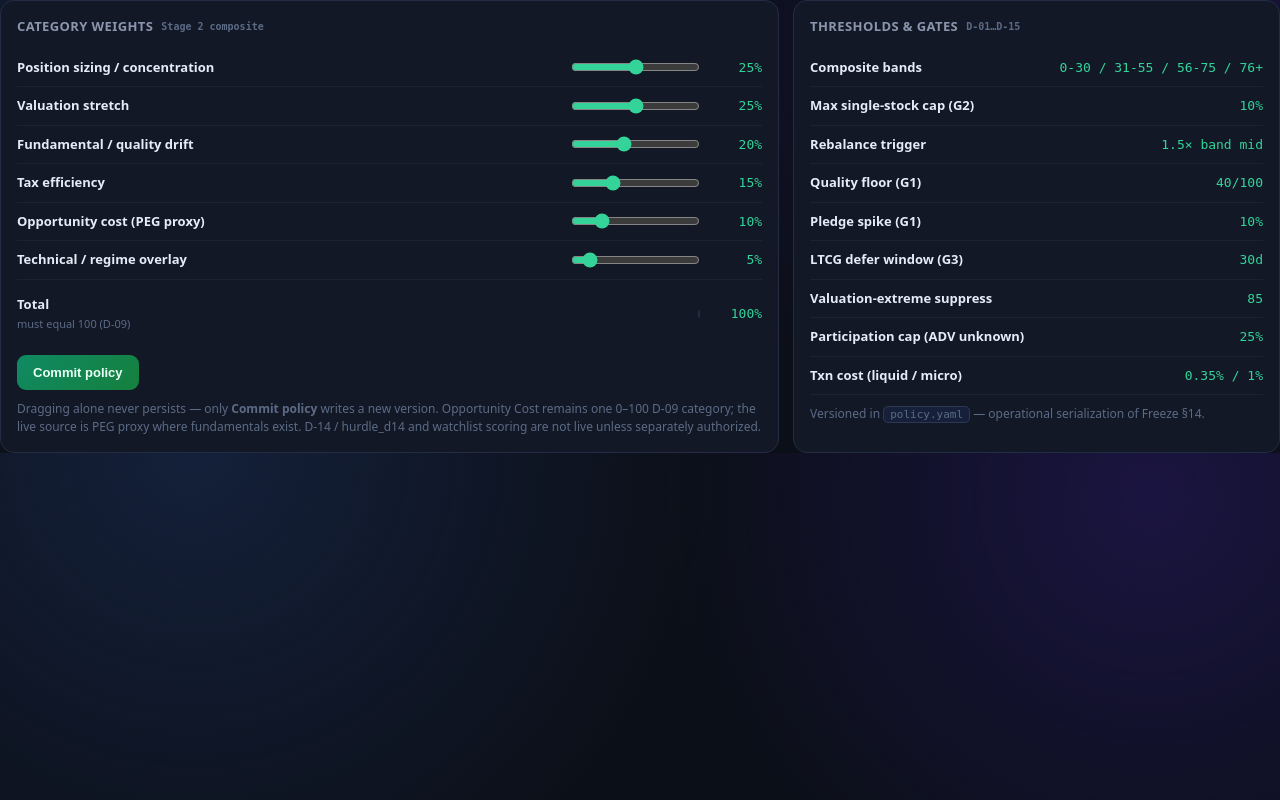
WeightsView — D-09 weight validation › ACCEPTS commit when the total is exactly 100
The image size is (1280, 800).
Click the button "Commit policy" at (78, 372), box [17,354,139,390]
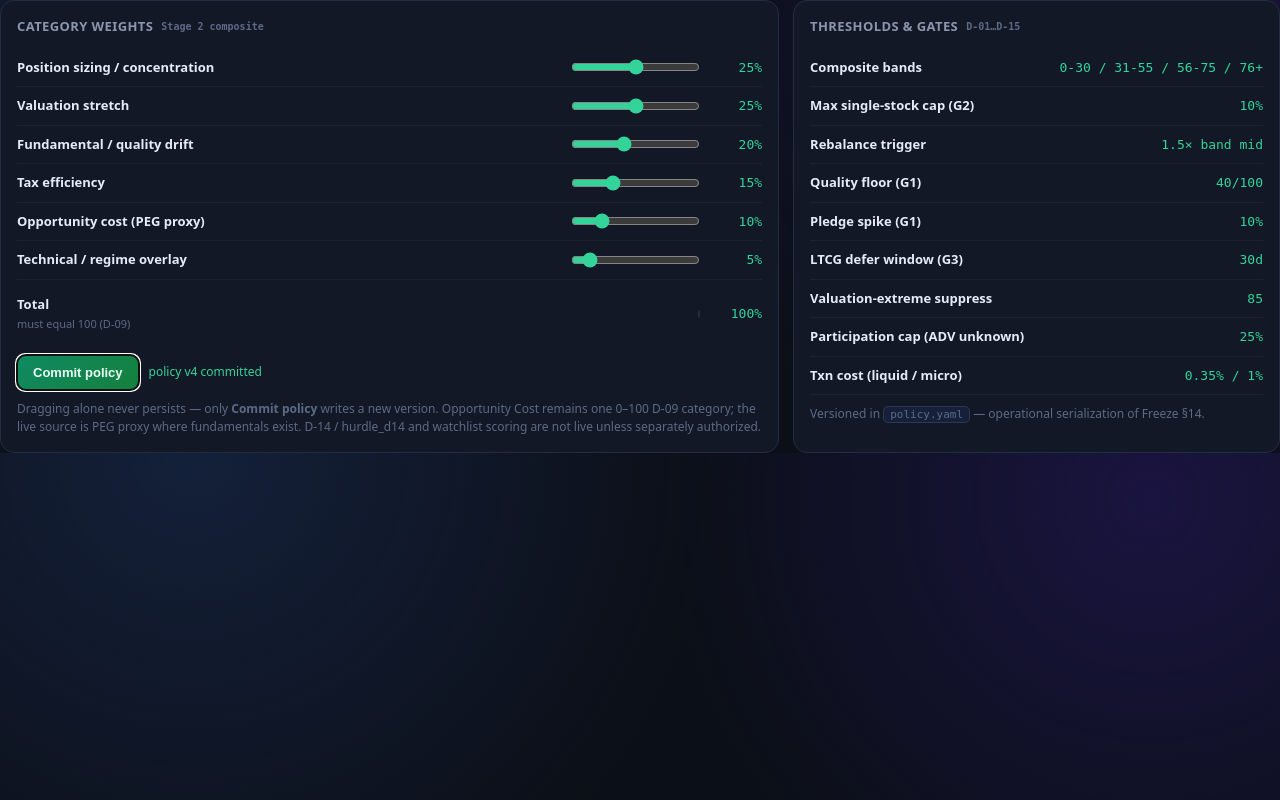
Check: the text "policy v4 committed" is shown, box [149,363,262,381]
